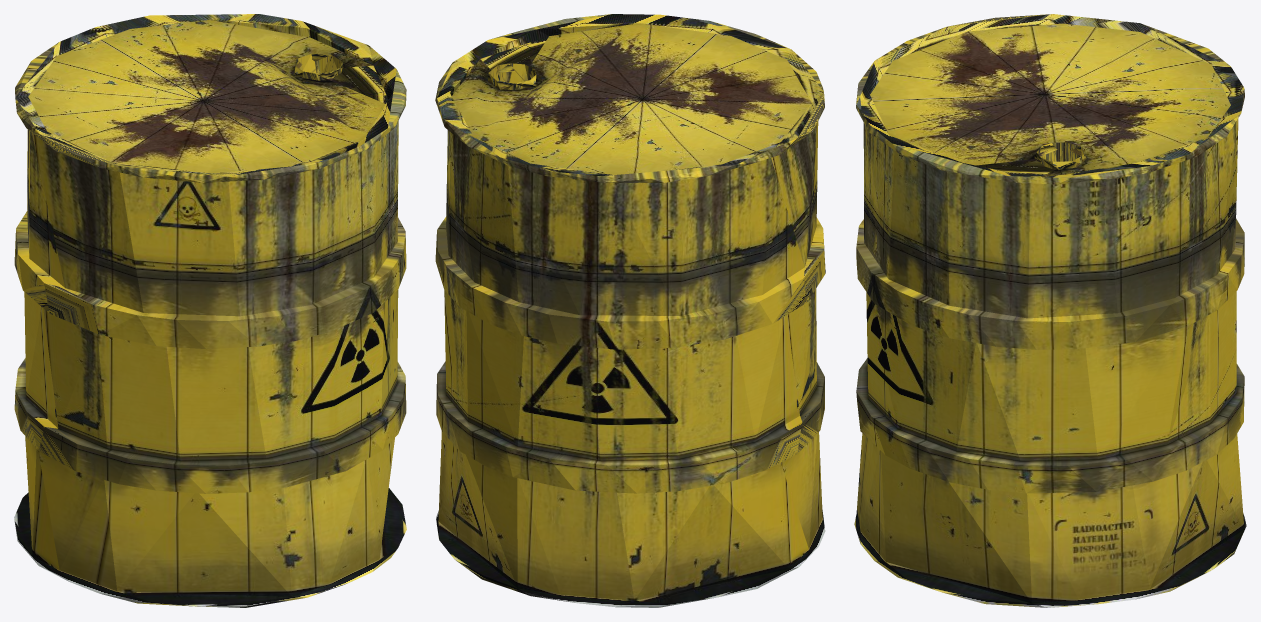
The model's file is Toxic barrel .fbx.
3 views of the same model, side by side, from view 1: azimuth 30°, elevation 25°; view 2: azimuth 150°, elevation 25°; view 3: azimuth 270°, elevation 25° (orthographic).
Parts seen in each view (by area): view 1: oil barral.001; view 2: oil barral.001; view 3: oil barral.001.
Part boxes in pixels (<box>): oil barral.001: <box>14,14,406,607</box>; oil barral.001: <box>435,14,825,607</box>; oil barral.001: <box>854,14,1246,607</box>.
Bounding box in the file's own units: 212 × 257 × 212.
